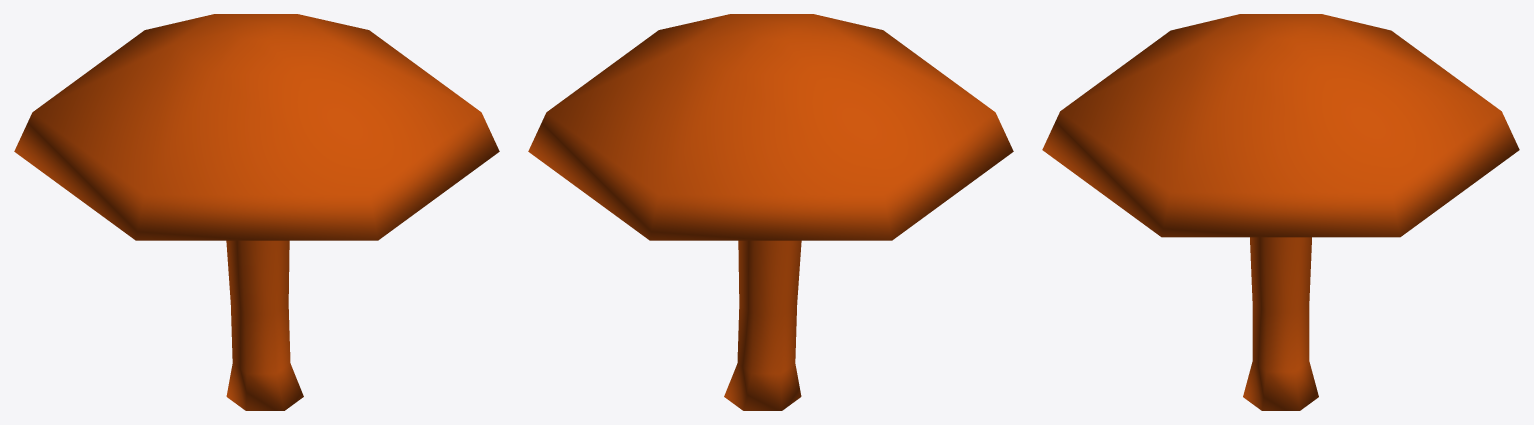
Rendered from fungus yelloworange.obj.
The picture shows the model from 3 angles, left to right: view 1: azimuth 30°, elevation 25°; view 2: azimuth 150°, elevation 25°; view 3: azimuth 270°, elevation 25°; orthographic projection.
Parts seen in each view (by area): view 1: fungo.023; view 2: fungo.023; view 3: fungo.023.
Boxes of the visible parts, x1,y1,x2,y2 form: fungo.023: (14,14,499,410); fungo.023: (528,14,1013,410); fungo.023: (1042,14,1519,410).
Bounding box in the file's own units: 0.995 × 0.9583 × 1.15.
